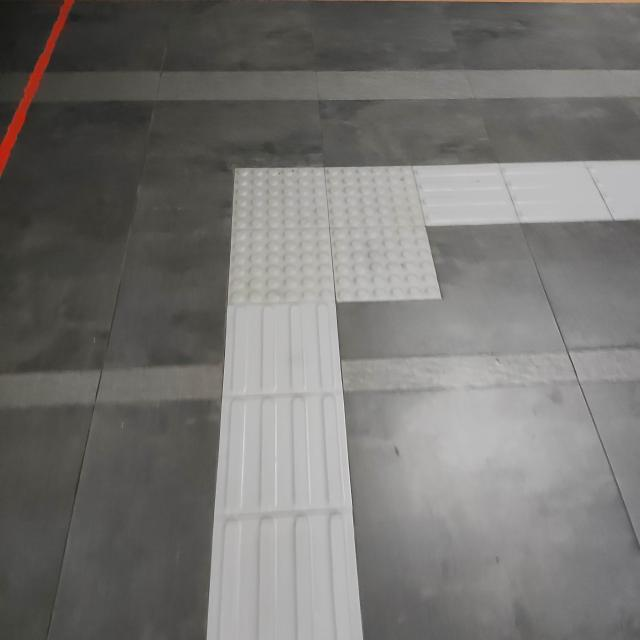kanan: (190, 126, 593, 352)
